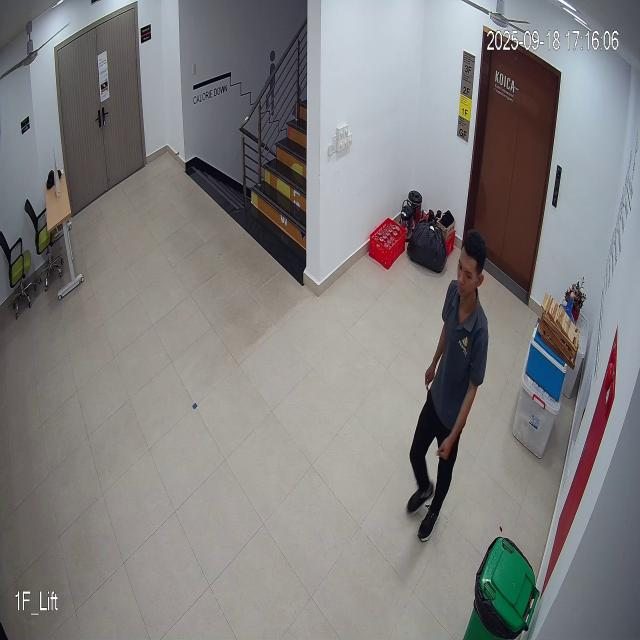face: (456, 232, 486, 296)
